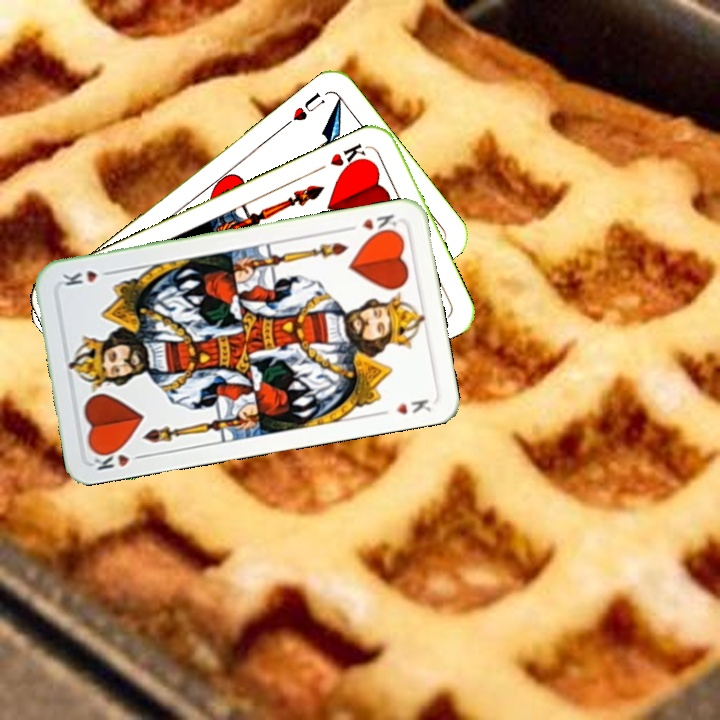HK: (89, 442, 149, 473), (343, 210, 401, 239), (326, 139, 371, 175)
HU: (280, 88, 328, 130)
